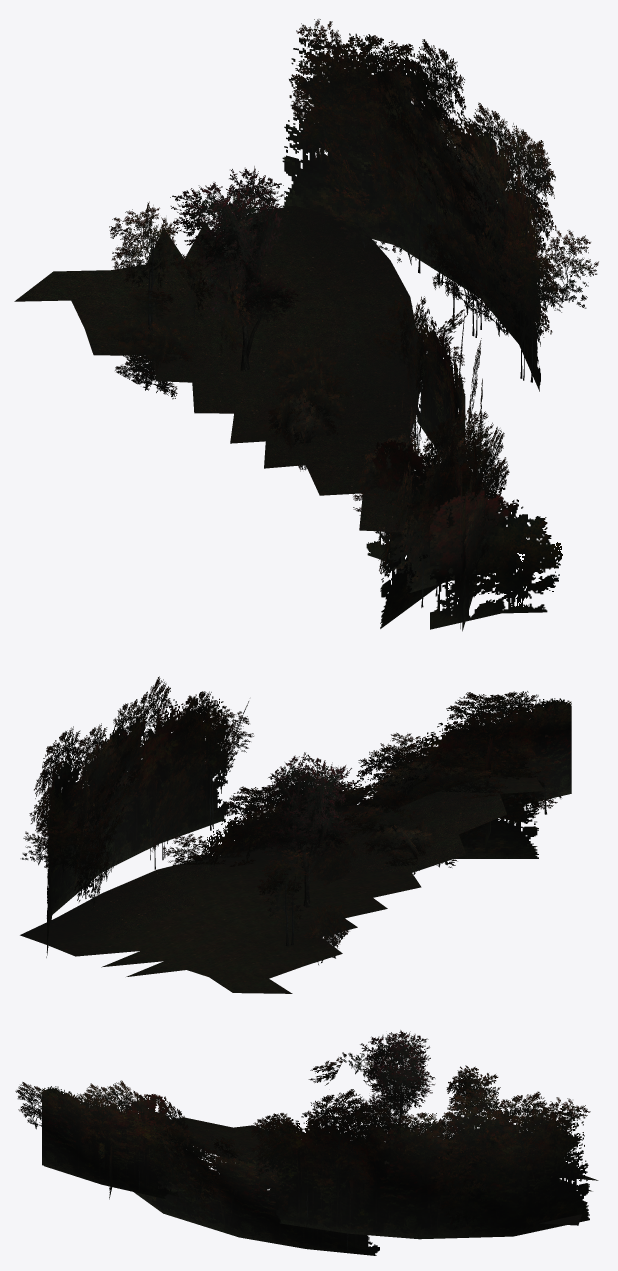
File: cell_5_-13.gltf
3 views of the same model, one above another, from view 1: azimuth 30°, elevation 25°; view 2: azimuth 150°, elevation 25°; view 3: azimuth 270°, elevation 25° (orthographic). The views are drawn at different scales.
Visible parts, largest first — view 1: cell_5_-13; view 2: cell_5_-13; view 3: cell_5_-13.
Boxes of the visible parts, bbox=[...] form: cell_5_-13: bbox=[14, 19, 598, 631]; cell_5_-13: bbox=[20, 676, 571, 993]; cell_5_-13: bbox=[15, 1030, 598, 1255].
Bounding box in the file's own units: 81.92 × 58.58 × 169.
Materials: 8 (8 with a texture image).
